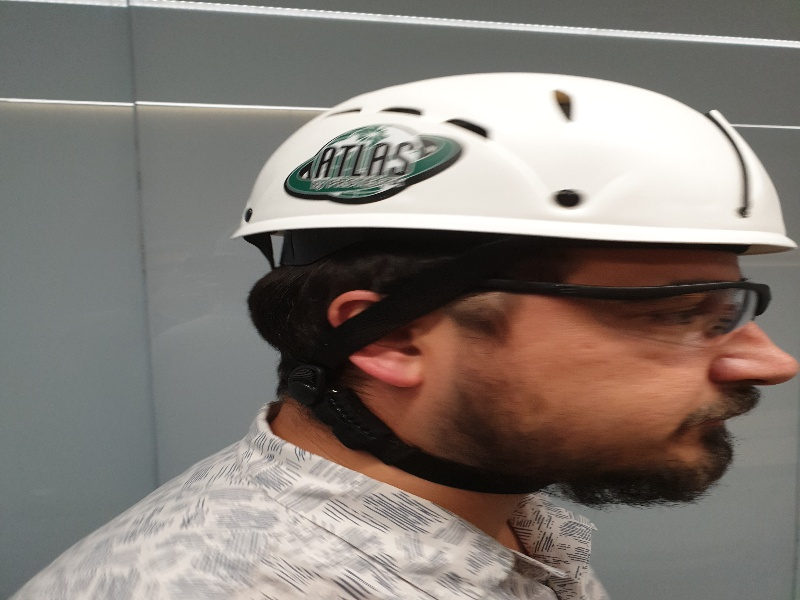Baret: (234, 69, 791, 248)
Gozluk: (477, 276, 771, 348)
